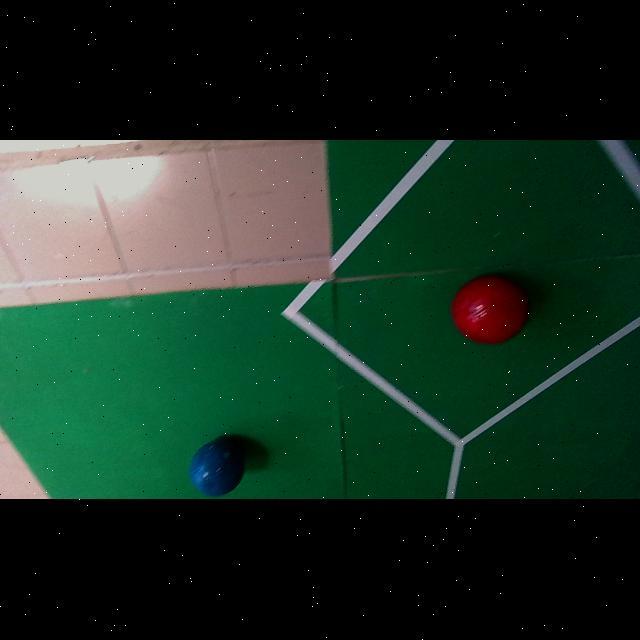B: (189, 439, 245, 498)
R: (450, 277, 530, 345)
